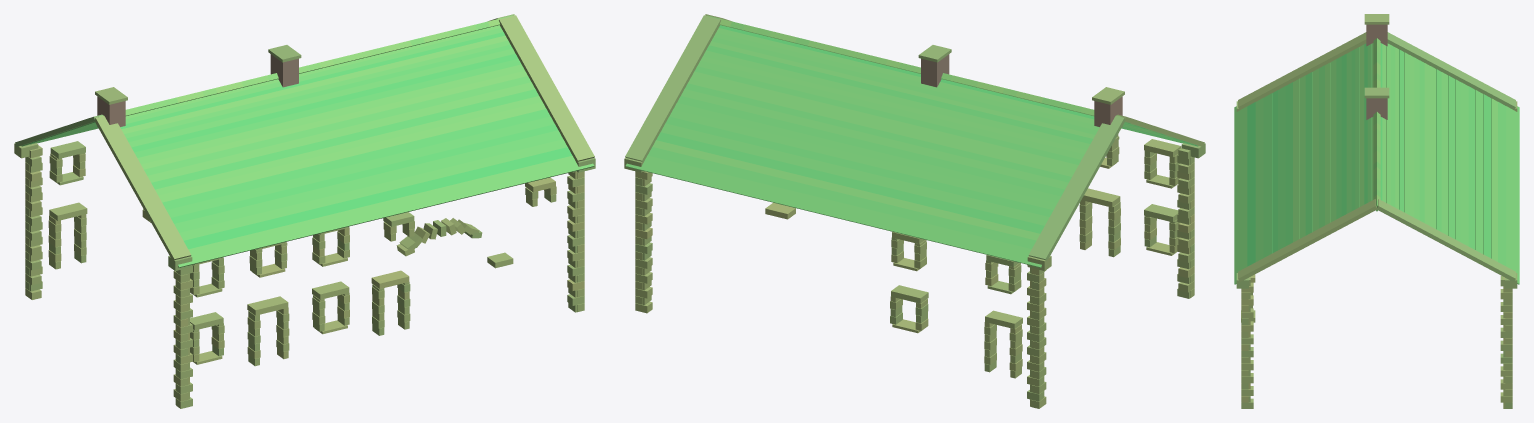
File: SM_Bld_190_Stone.glb
3 views of the same model, side by side, from view 1: azimuth 30°, elevation 25°; view 2: azimuth 150°, elevation 25°; view 3: azimuth 270°, elevation 25° (orthographic). The views are drawn at different scales.
Visible parts, largest first — view 1: SM_Bld_190_Stone; view 2: SM_Bld_190_Stone; view 3: SM_Bld_190_Stone.
Boxes of the visible parts, left/top/right/bottom form: SM_Bld_190_Stone: left=14, top=14, right=595, bottom=408; SM_Bld_190_Stone: left=624, top=14, right=1205, bottom=408; SM_Bld_190_Stone: left=1234, top=14, right=1519, bottom=408.
Bounding box in the file's own units: 17.82 × 10.35 × 12.01.
